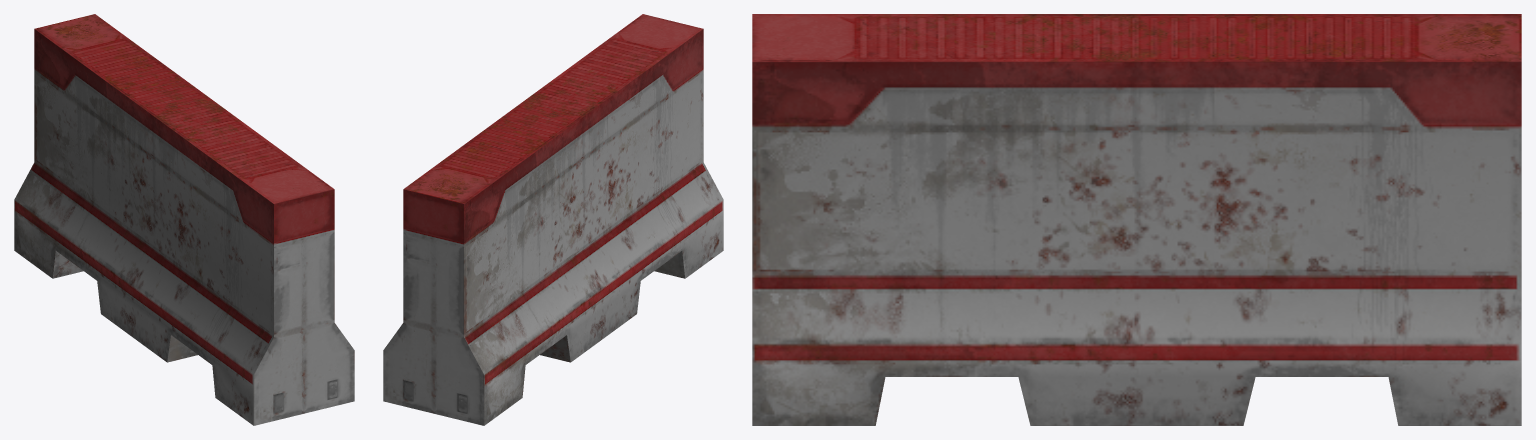
Rendered from CP_Traffic_Barrier_02.fbx.
The picture shows the model from 3 angles, left to right: view 1: azimuth 30°, elevation 25°; view 2: azimuth 150°, elevation 25°; view 3: azimuth 270°, elevation 25°; orthographic projection. The views are drawn at different scales.
Visible parts, largest first — view 1: CP_Traffic_Barrier_02; view 2: CP_Traffic_Barrier_02; view 3: CP_Traffic_Barrier_02.
Part boxes in pixels (x1,y1,x2,y2): CP_Traffic_Barrier_02: (14, 14, 354, 425); CP_Traffic_Barrier_02: (383, 14, 723, 425); CP_Traffic_Barrier_02: (752, 14, 1521, 425).
Bounding box in the file's own units: 48.63 × 100 × 200.
